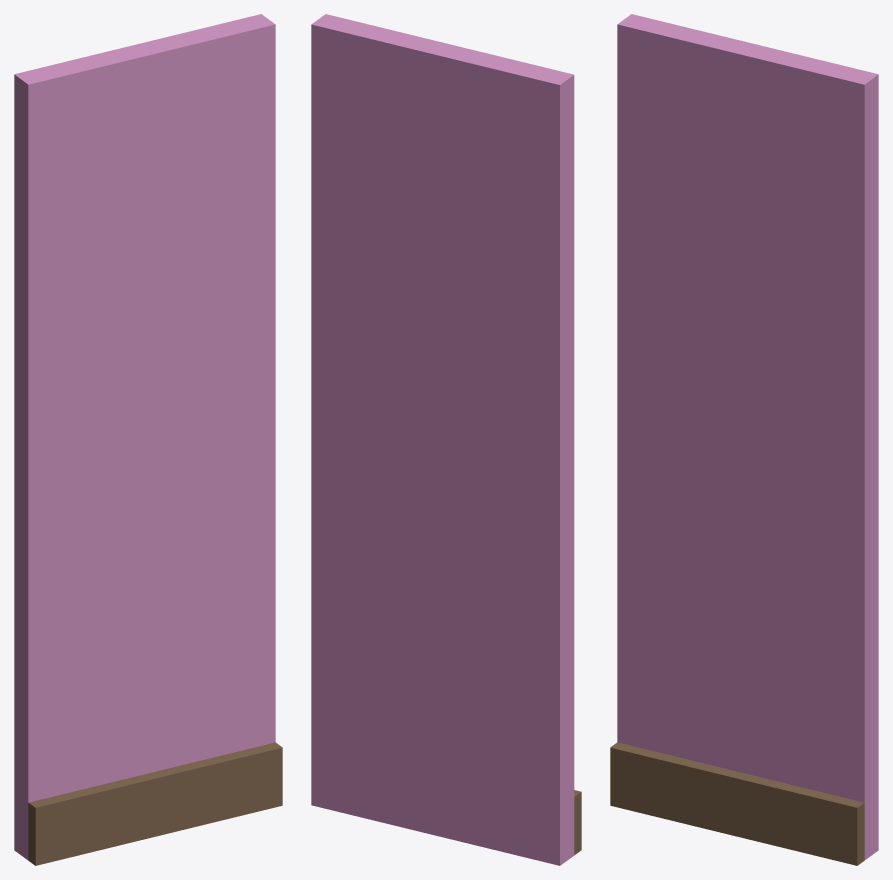
File: Mesh_WallBaseboard_G1.fbx
3 renders of one model, left to right at view 1: azimuth 30°, elevation 25°; view 2: azimuth 150°, elevation 25°; view 3: azimuth 330°, elevation 25°, orthographic.
Parts seen in each view (by area): view 1: Mesh_WallBaseboard_G1; view 2: Mesh_WallBaseboard_G1; view 3: Mesh_WallBaseboard_G1.
Part boxes in pixels (x1,y1,x2,y2): Mesh_WallBaseboard_G1: (14,14,282,865); Mesh_WallBaseboard_G1: (311,14,581,865); Mesh_WallBaseboard_G1: (610,14,878,865).
Size of the model in its own units: 1 by 3 by 0.15.
